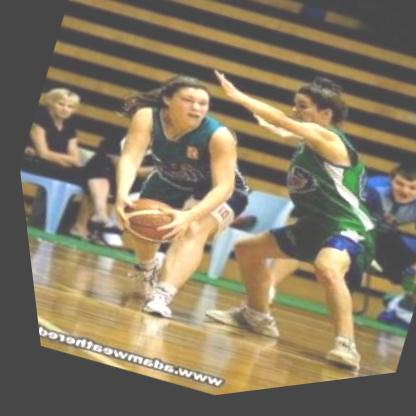basketball: (99, 181, 190, 265)
